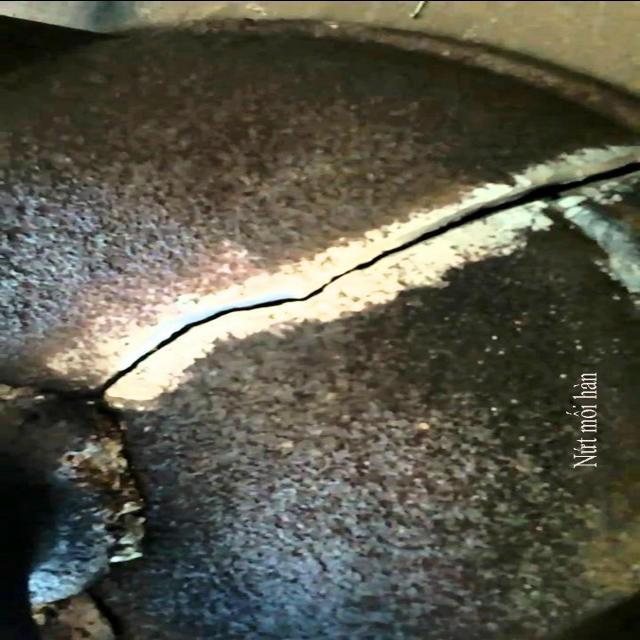defect: (78, 156, 637, 400)
